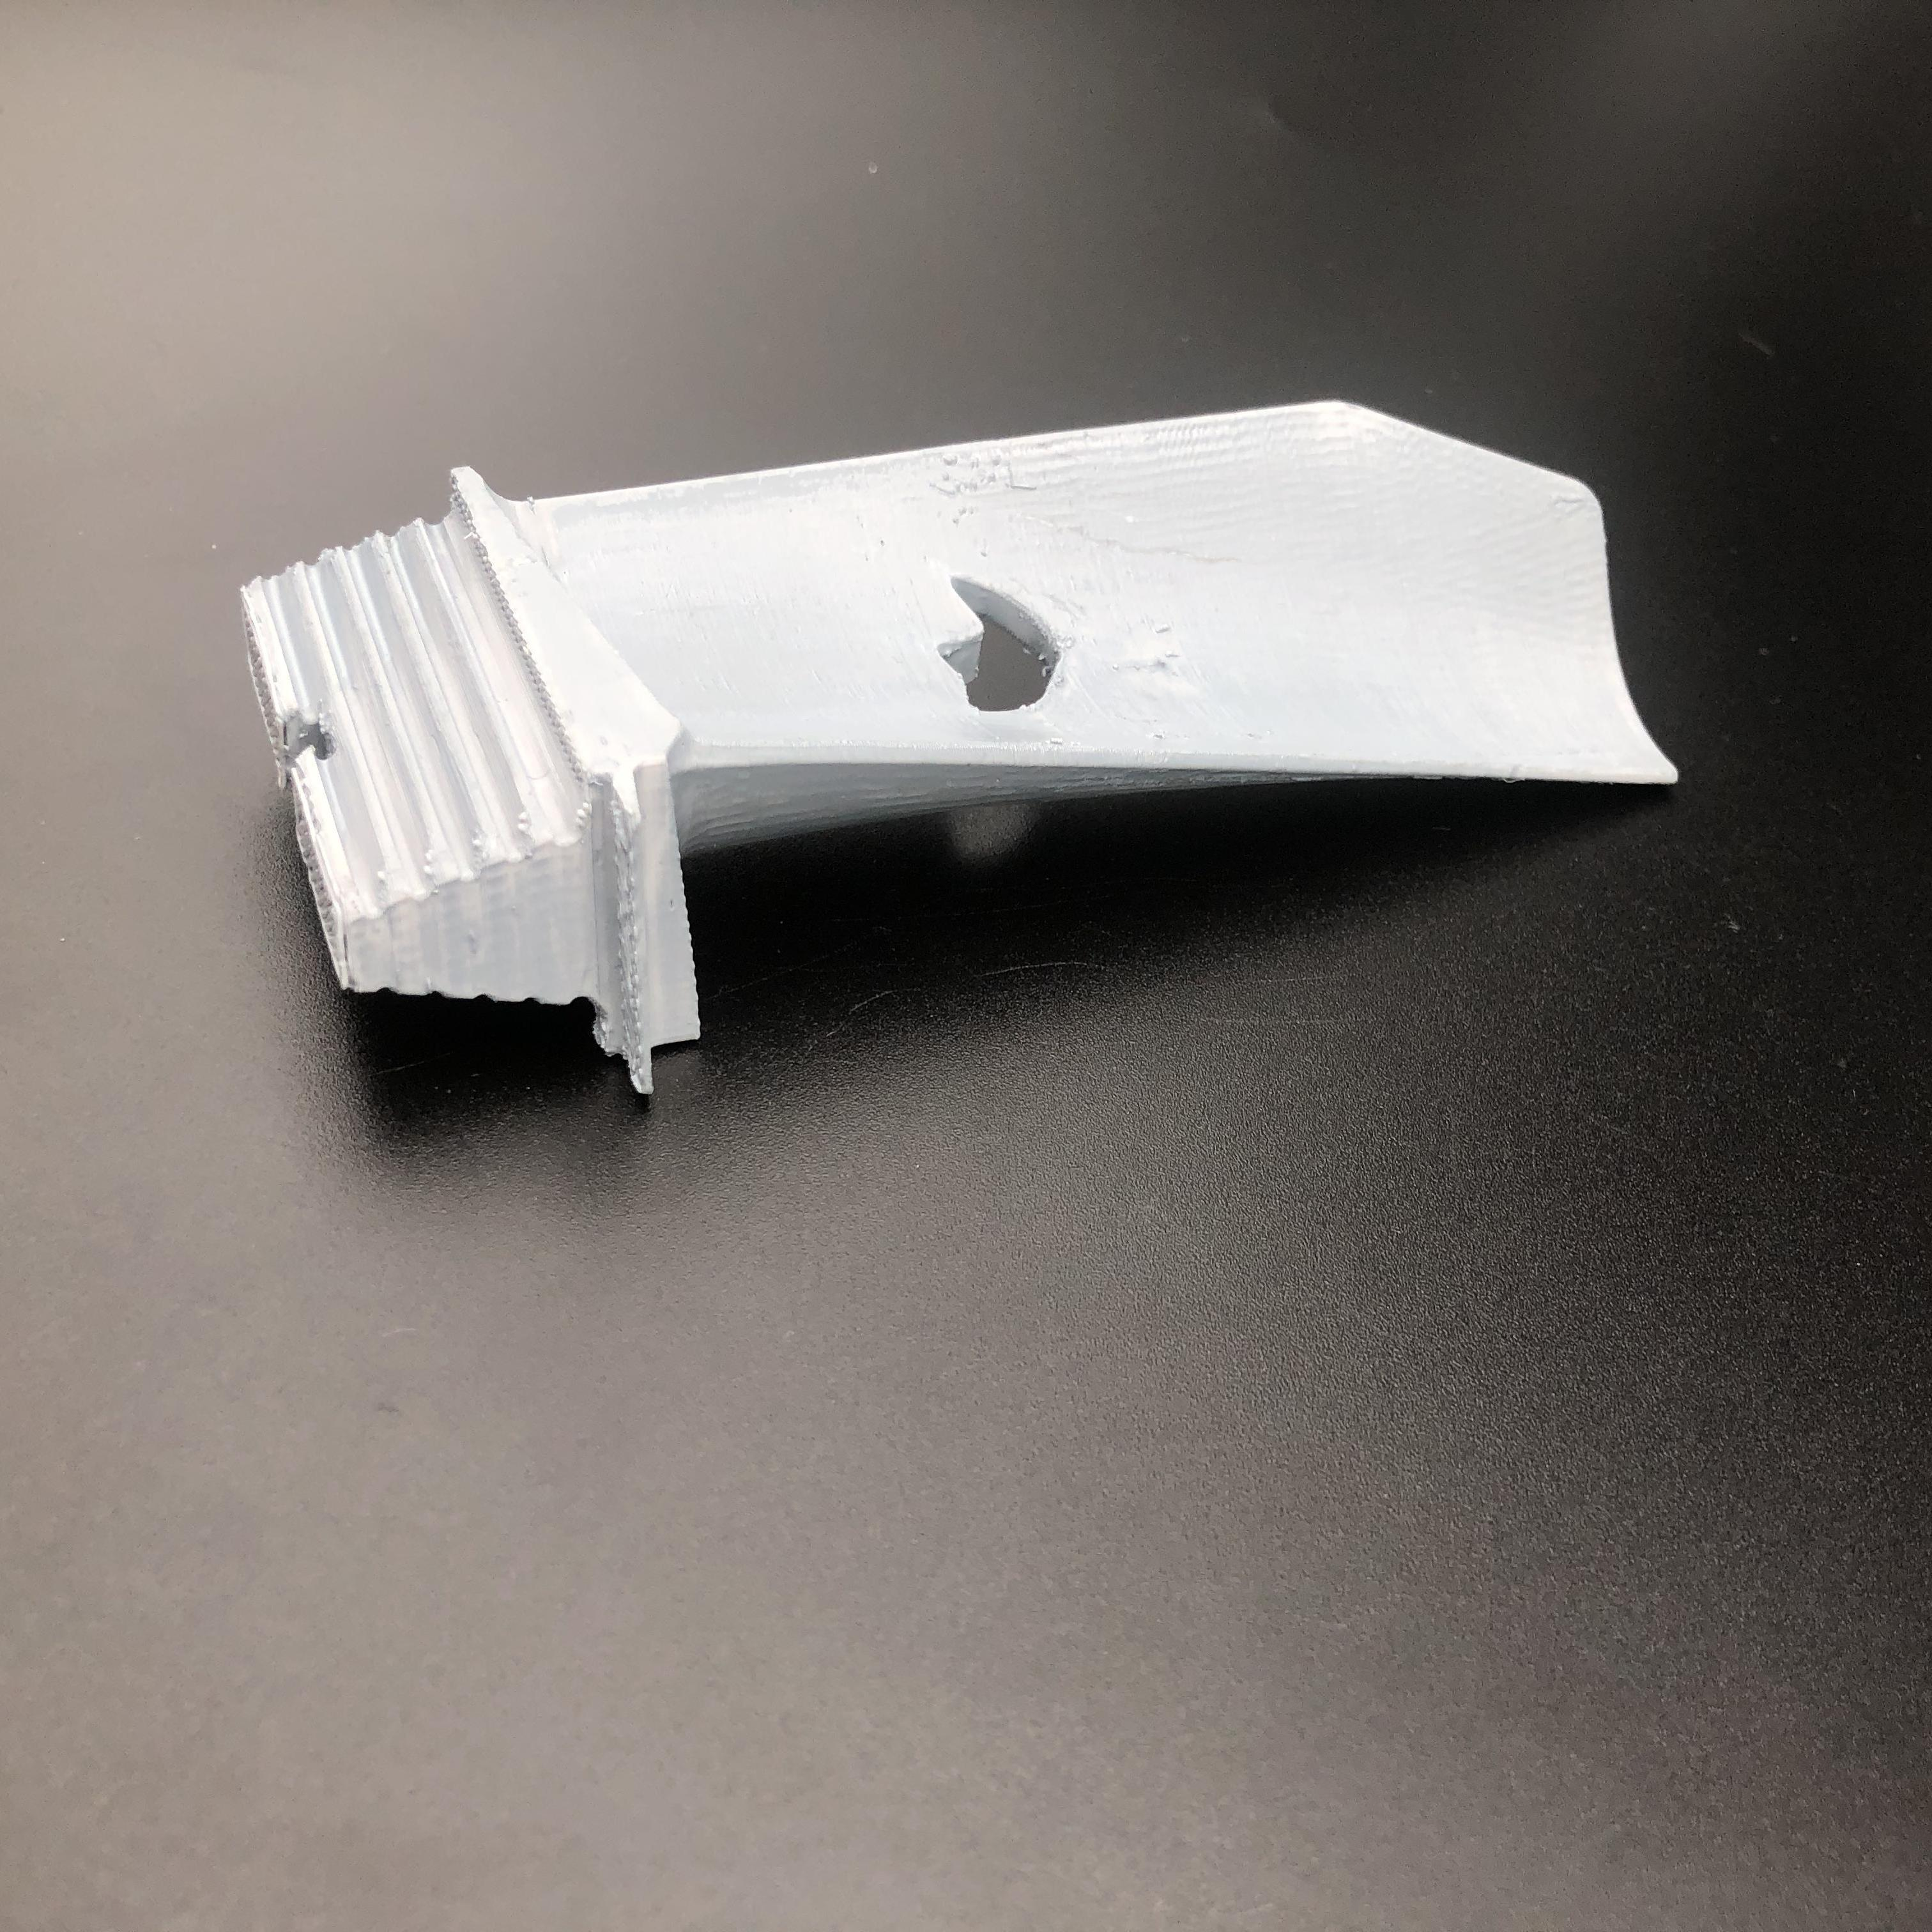breakdown: (934, 570, 1081, 727)
